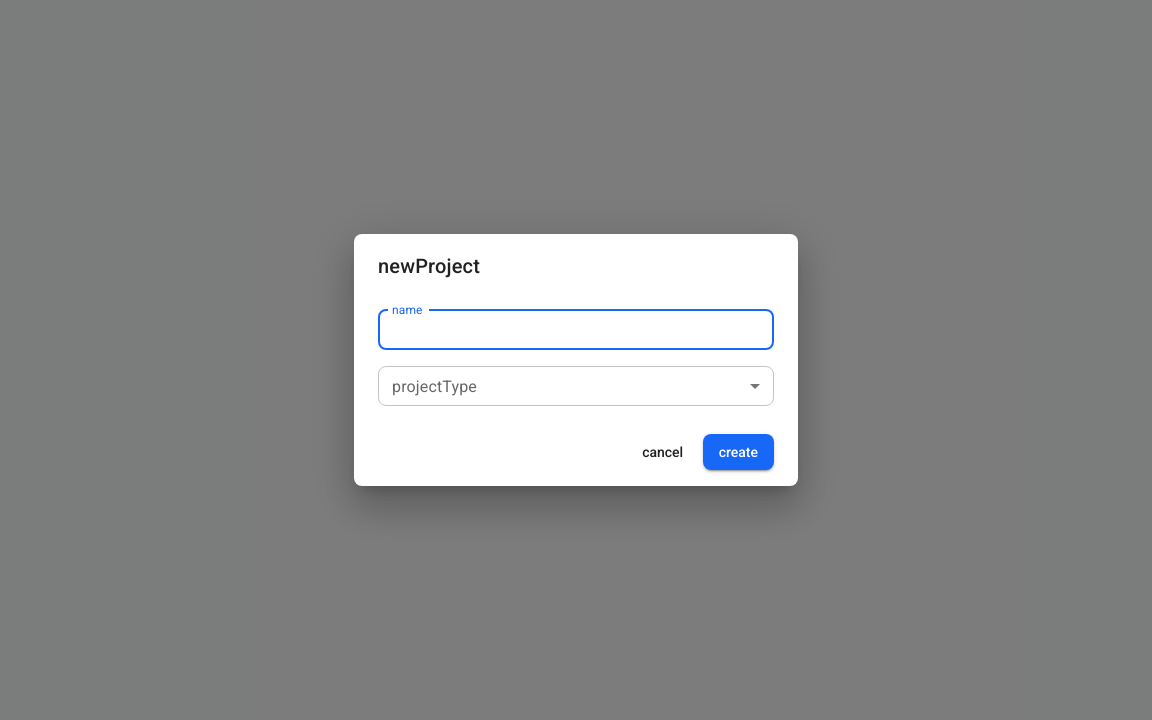
CreateProjectDialog › resets the form and closes when cancel is clicked
Type "Shop" into the field labelled "name" at (576, 330), box top-left (378, 310), bottom-right (774, 350)
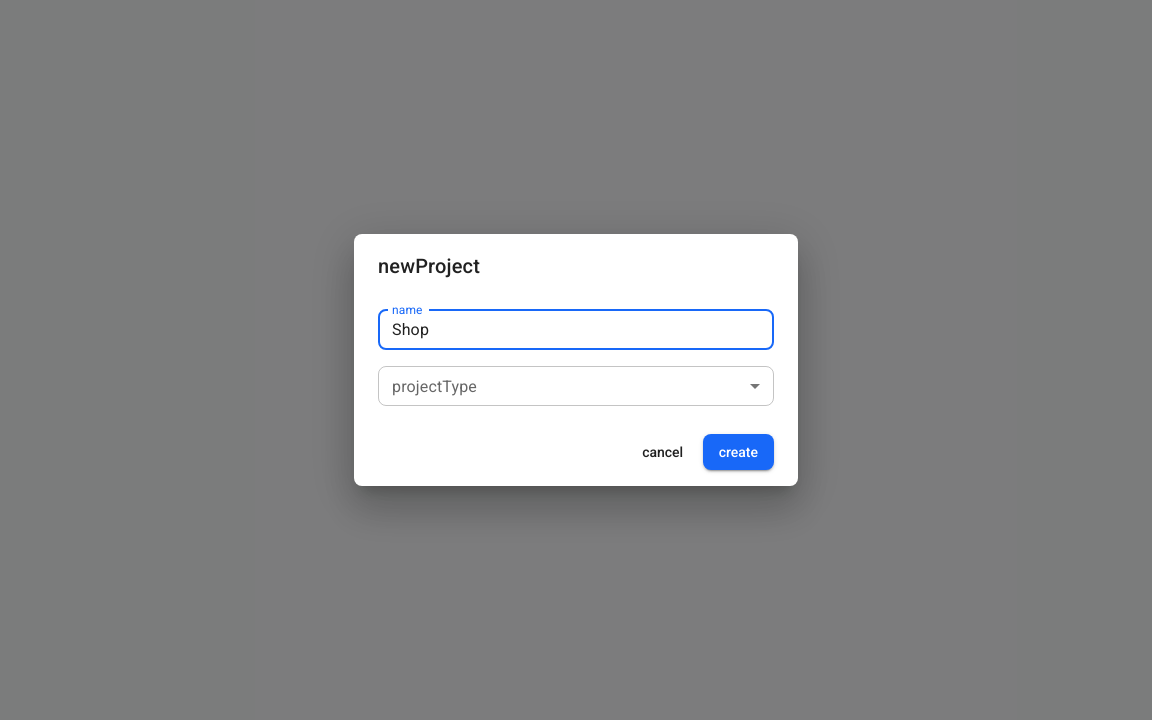
Click the button "cancel" at (663, 452), box top-left (631, 434), bottom-right (695, 470)
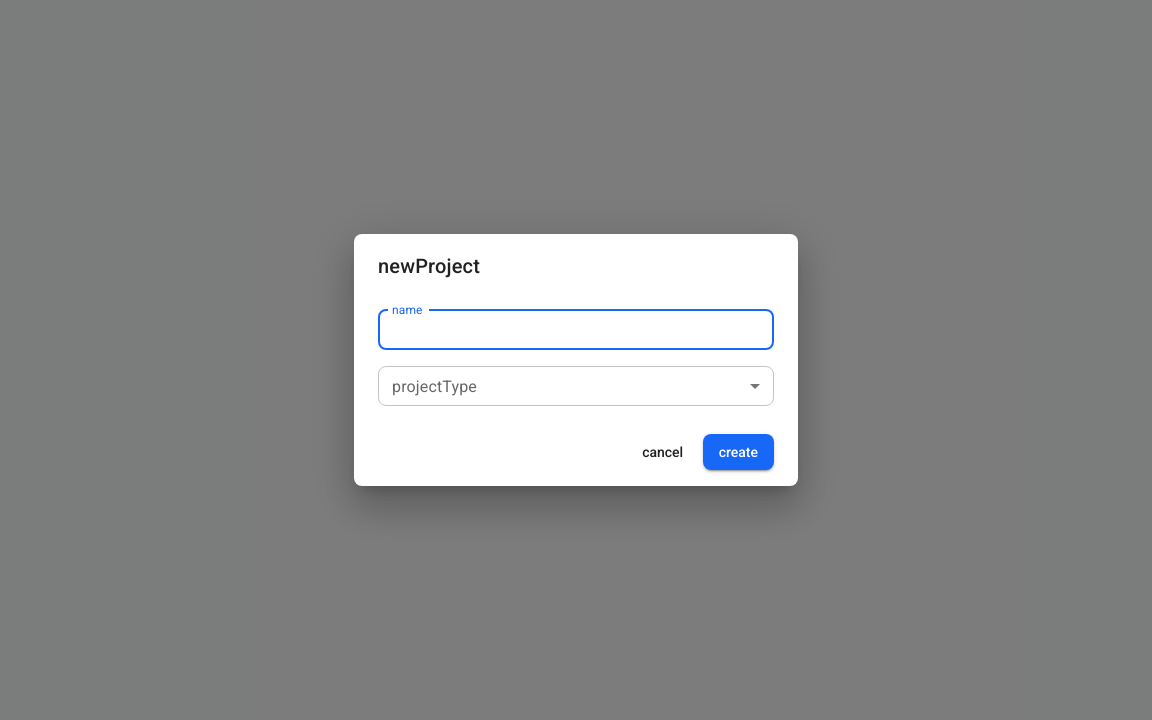
Check: the field labelled "name" is empty, box top-left (378, 310), bottom-right (774, 350)
